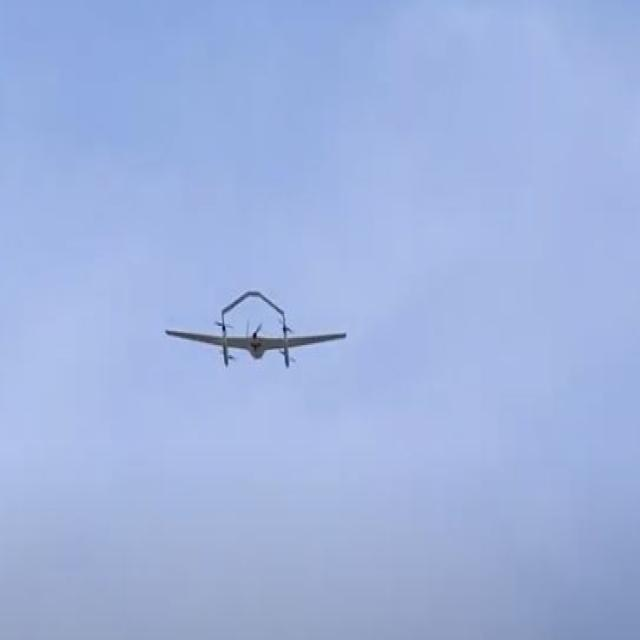iha: (165, 314, 348, 336)
